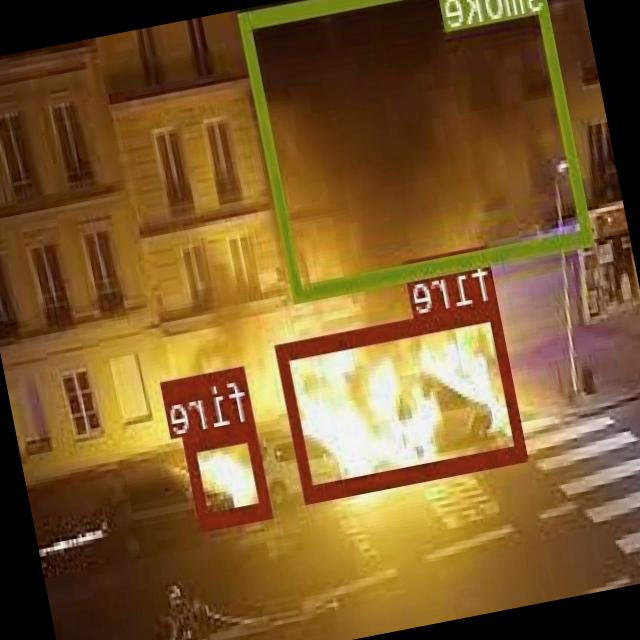fire: (278, 300, 528, 498), (184, 419, 274, 526)
smoke: (240, 0, 595, 298)
